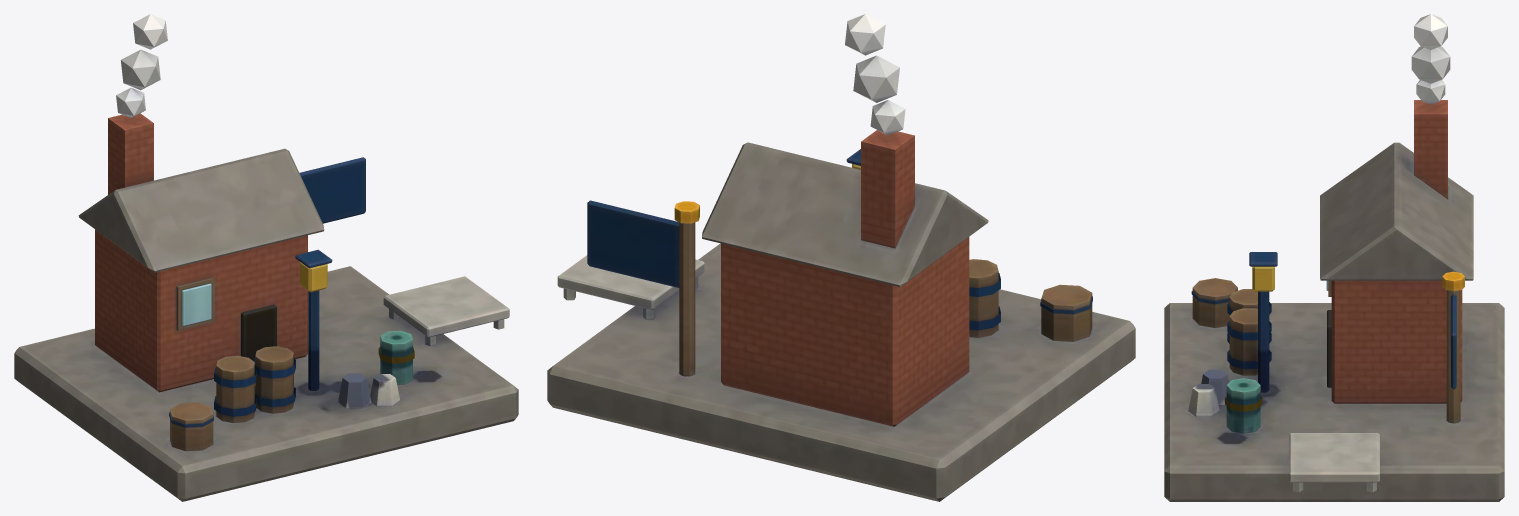
Rendered from fishery-10.glb.
The picture shows the model from 3 angles, left to right: view 1: azimuth 30°, elevation 25°; view 2: azimuth 150°, elevation 25°; view 3: azimuth 270°, elevation 25°; orthographic projection. The views are drawn at different scales.
Visible parts, largest first — view 1: fishery-10; view 2: fishery-10; view 3: fishery-10.
Boxes of the visible parts, <box> form: fishery-10: <box>14,14,518,501</box>; fishery-10: <box>547,14,1135,501</box>; fishery-10: <box>1164,14,1504,501</box>.
Size of the model in its own units: 1.61 by 1.45 by 1.2.
1 material, 1 textured.
